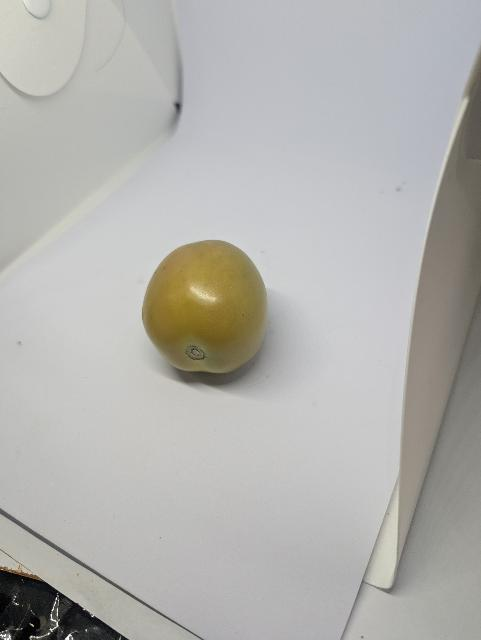breaker: (138, 237, 274, 379)
